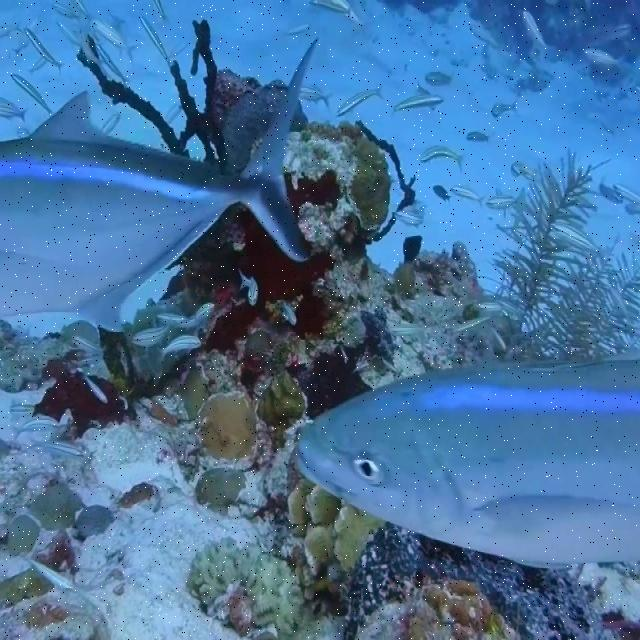aquatic plants: (482, 151, 639, 361), (189, 545, 299, 637)
fish: (1, 35, 321, 329), (291, 351, 639, 569)
reefs: (84, 19, 386, 355)
sea-floor: (188, 241, 613, 639)
